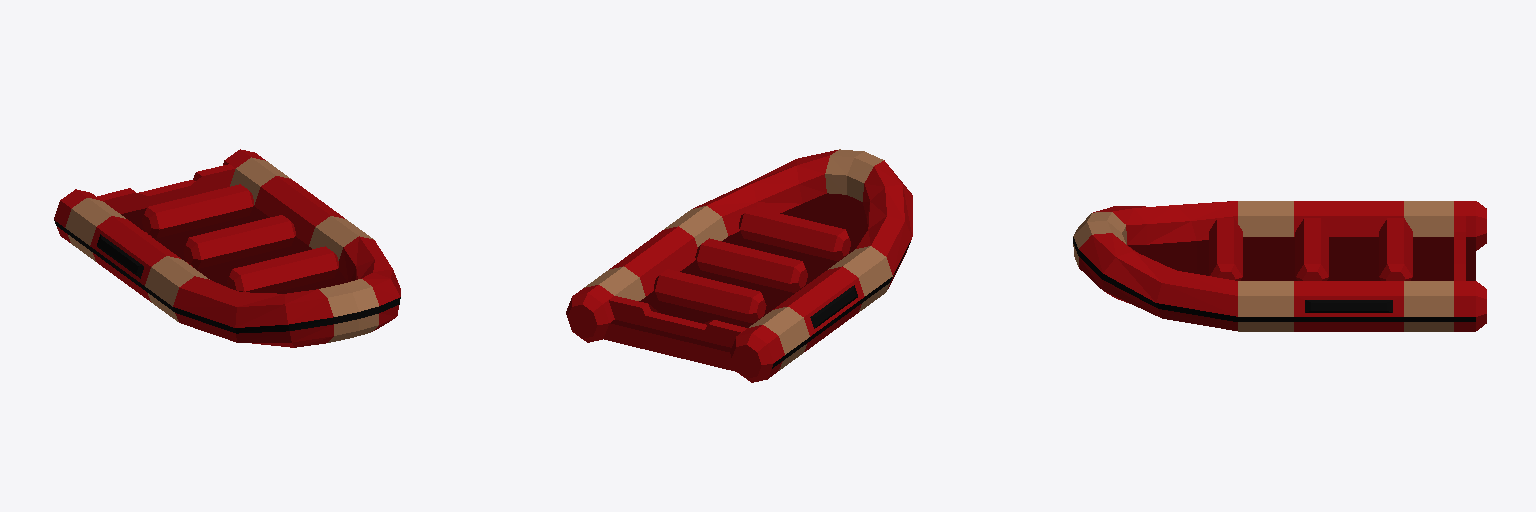
Rendered from Lifeboat.obj.
3 renders of one model, left to right at view 1: azimuth 30°, elevation 25°; view 2: azimuth 150°, elevation 25°; view 3: azimuth 270°, elevation 25°, orthographic.
Parts seen in each view (by area): view 1: Lifeboat_Cylinder; view 2: Lifeboat_Cylinder; view 3: Lifeboat_Cylinder.
Part boxes in pixels (x1,y1,x2,y2): Lifeboat_Cylinder: (54, 149, 400, 347); Lifeboat_Cylinder: (566, 149, 912, 382); Lifeboat_Cylinder: (1073, 201, 1486, 331).
Bounding box in the file's own units: 0.6471 × 0.209 × 1.11.